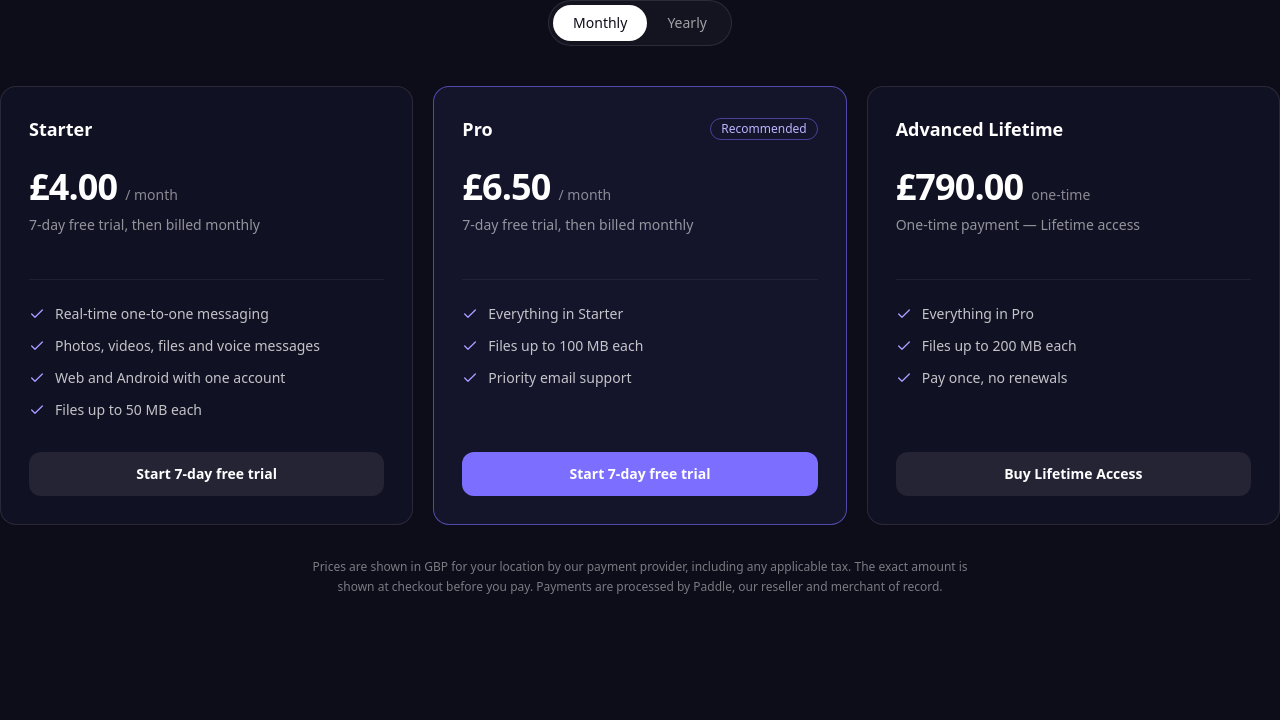
Test case: pricing table › shows Paddle-localized totals when Paddle picks another currency
This screenshot has width=1280, height=720.
expect the text with test id "price-pro" reads "£6.50": met, box [462,162,550,211]
expect the text with test id "price-advanced" reads "£790.00": met, box [896,162,1023,211]
Click the radio button labelled "Yearly". click: click(687, 23)
box: [647,5,727,41]
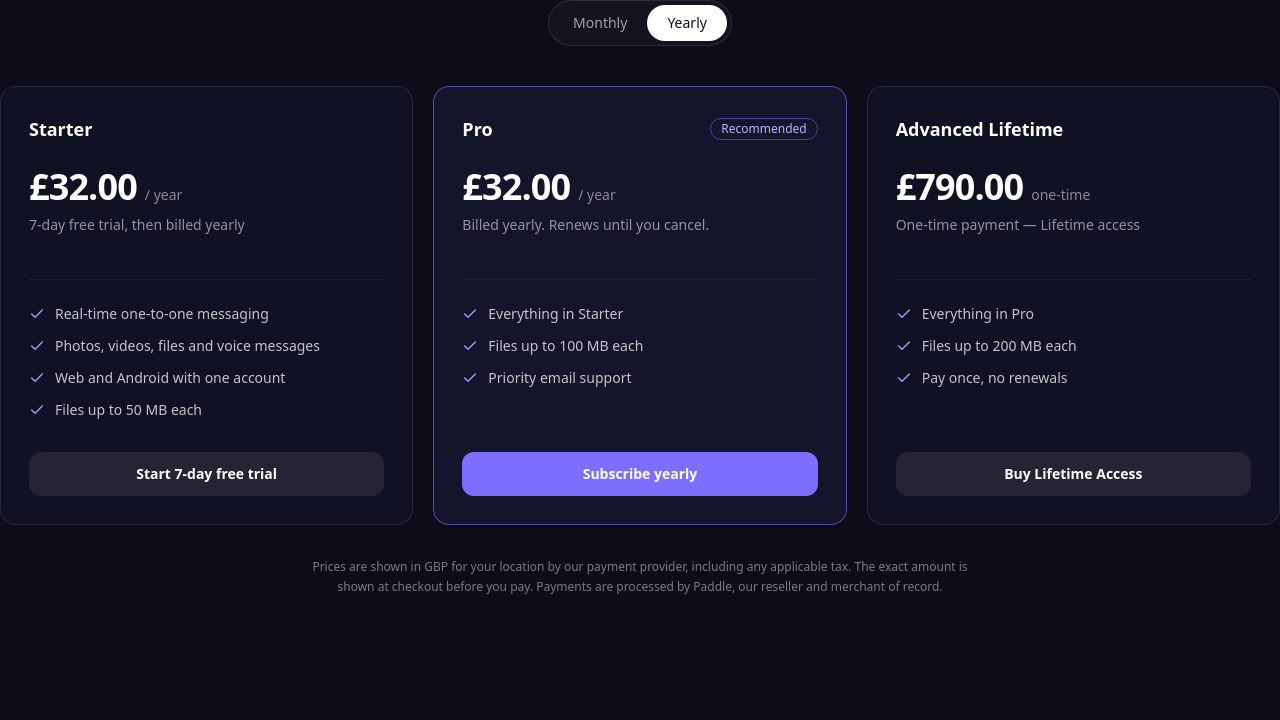
expect the text "Prices are shown in GBP" is shown: met, box [312,558,851,575]
expect the text with test id "price-pro" reads "£32.00": met, box [462,162,570,211]
